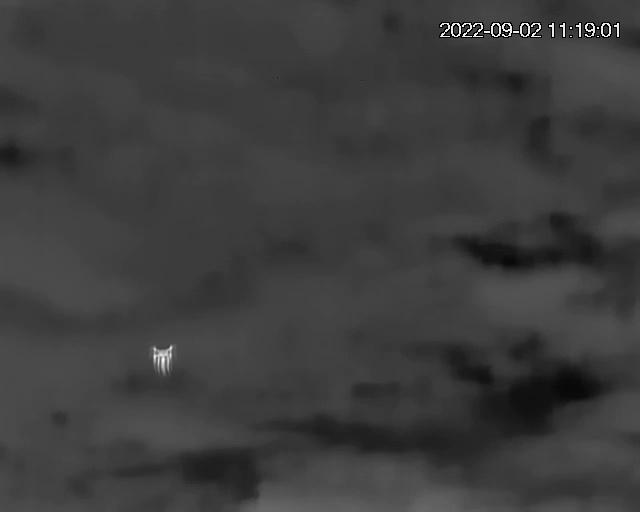DJI-Phantom: (152, 341, 177, 375)
